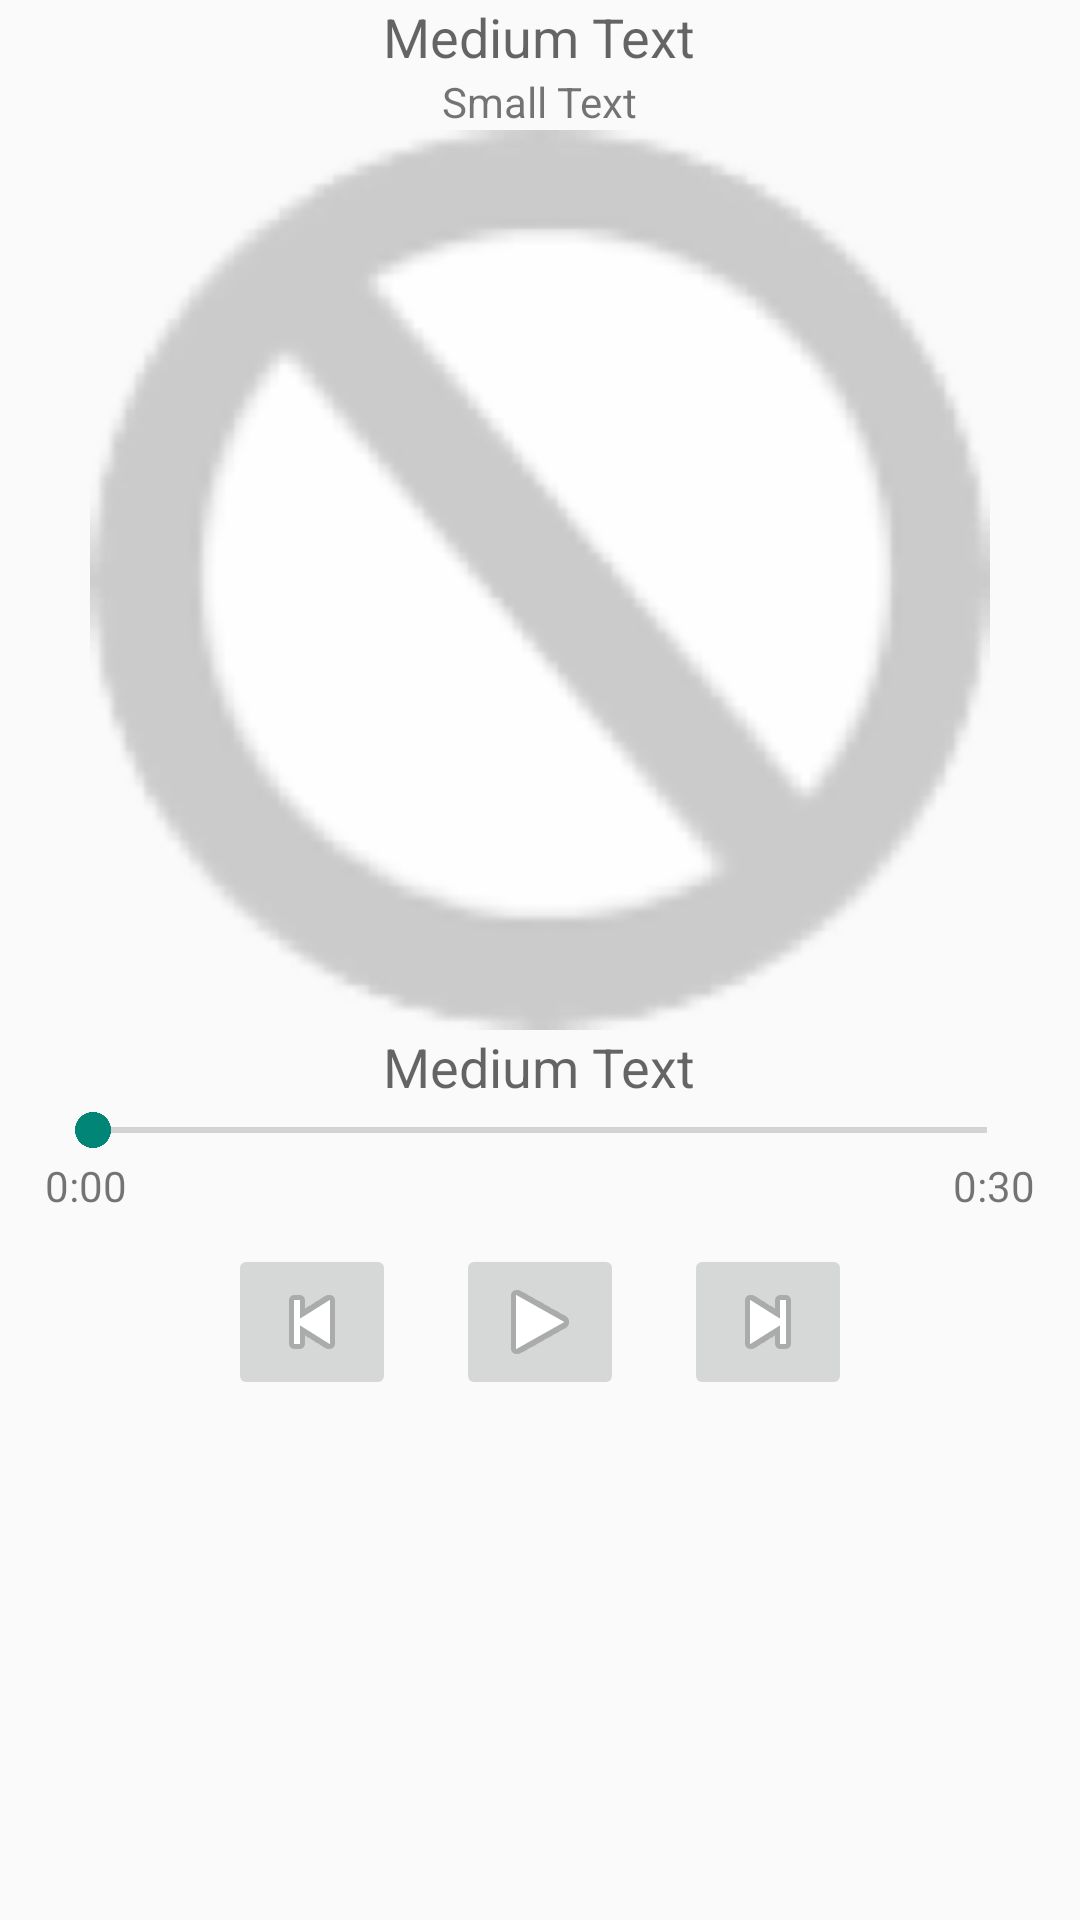

Where icons sit on this 1080w x 1920h app screen, as detection(x1, y1, x2, y2):
next: detection(696, 1262, 840, 1382)
play: detection(468, 1262, 612, 1382)
previous: detection(240, 1262, 384, 1382)
